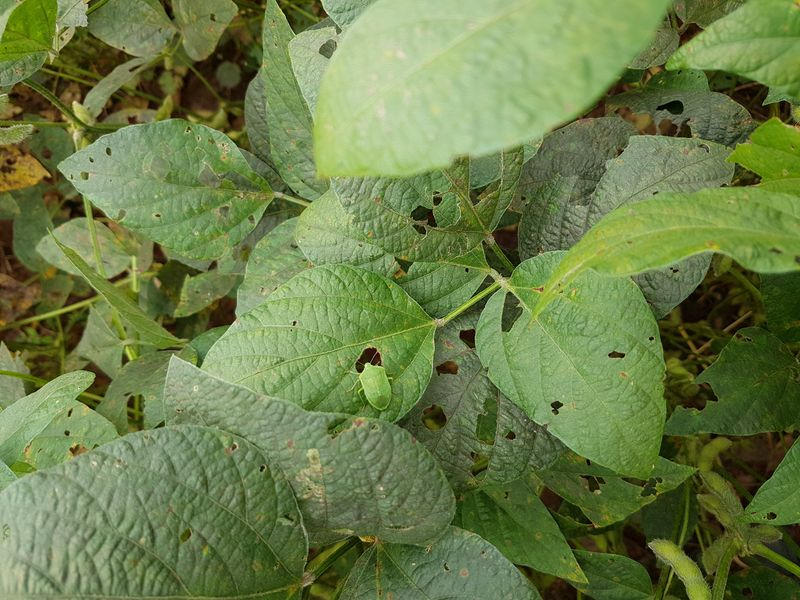Nezara_viridula_adulto: (340, 346, 408, 418)
